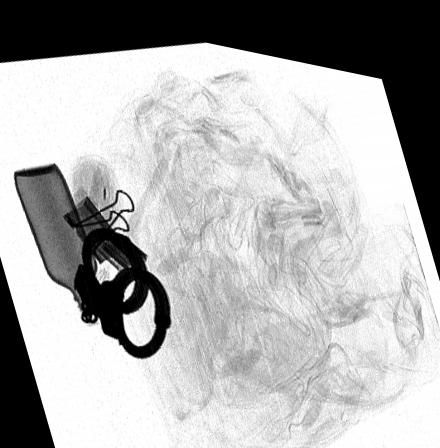HandCuffs: (68, 218, 173, 355)
